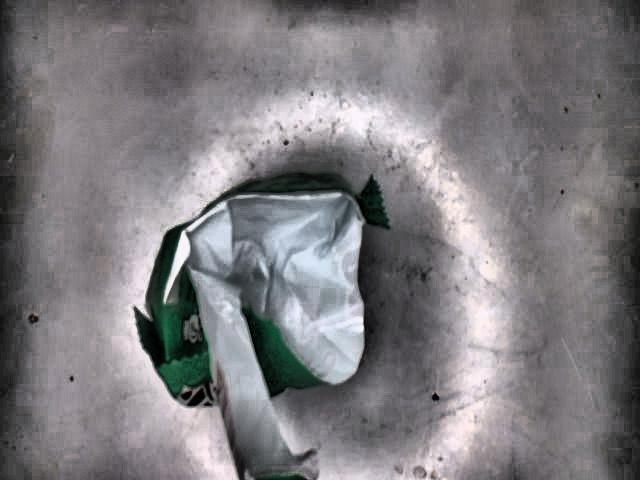Plastic: (133, 169, 395, 480)
